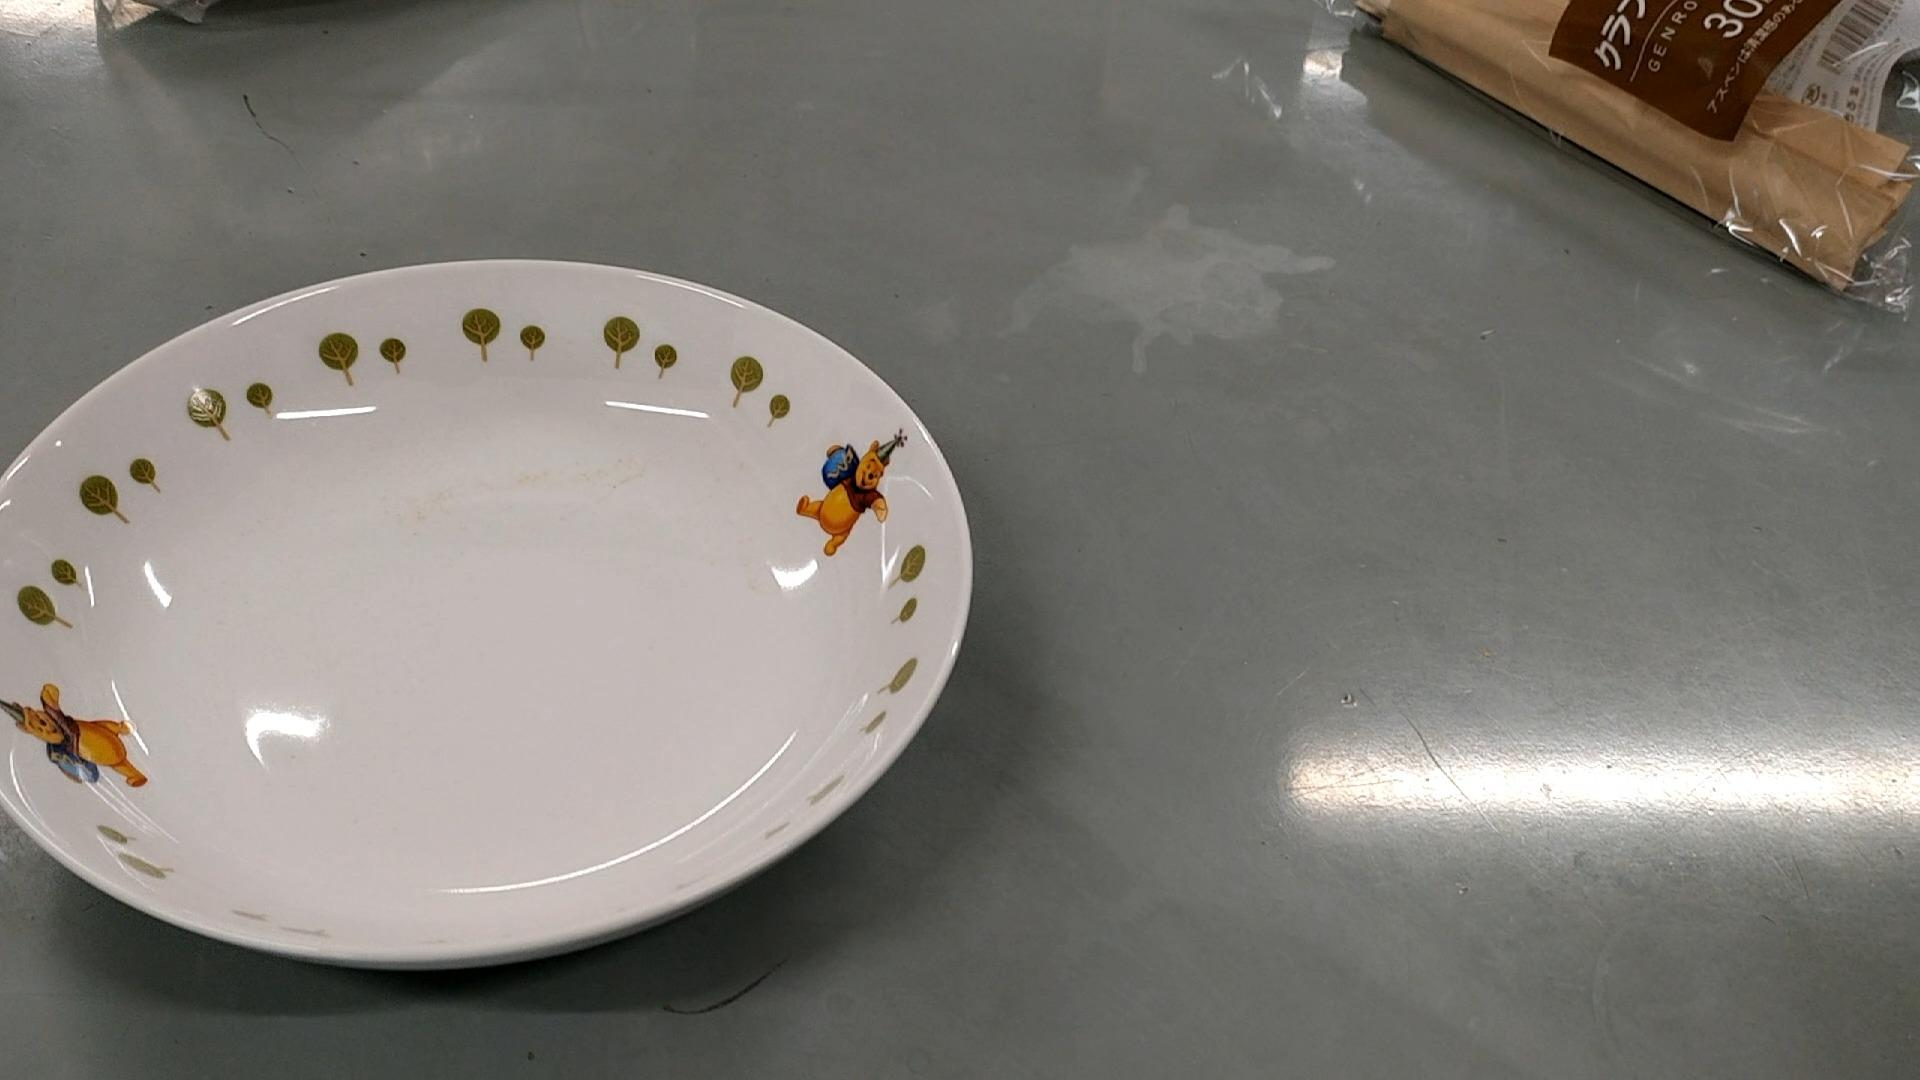plate: (0, 256, 976, 981)
